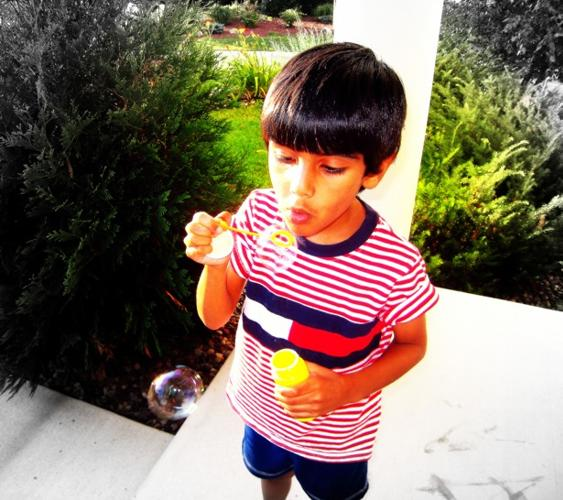person: (182, 40, 435, 500)
